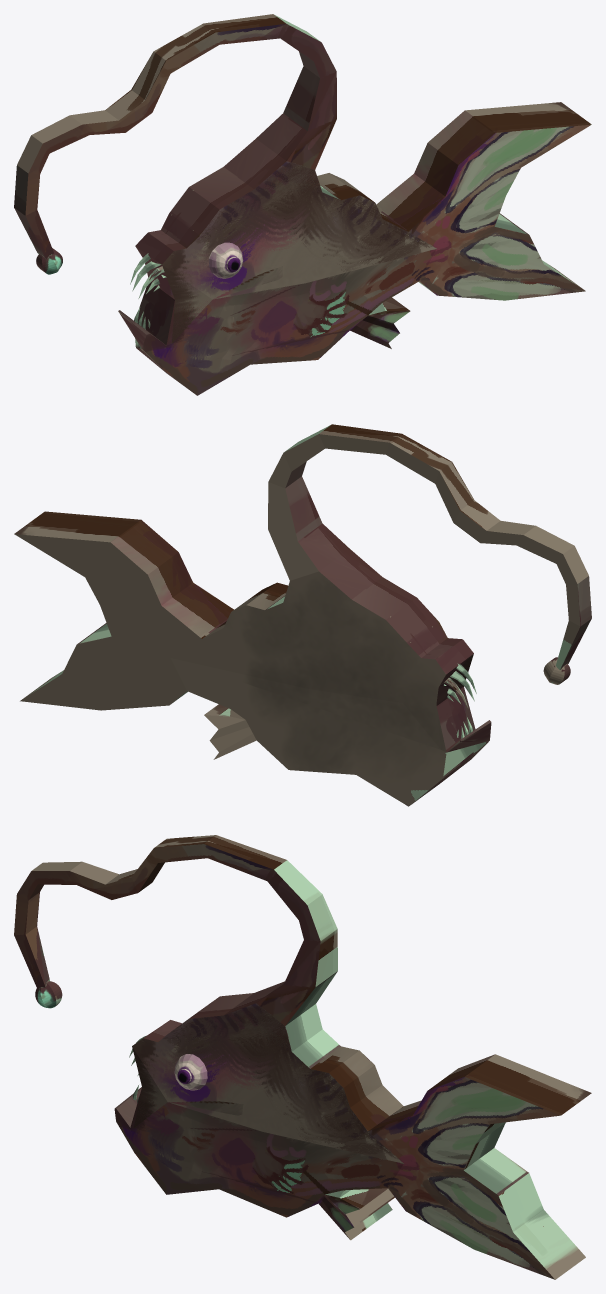
File: fish.glb
The picture shows the model from 3 angles, top to bottom: view 1: azimuth 30°, elevation 25°; view 2: azimuth 150°, elevation 25°; view 3: azimuth 330°, elevation 25°; orthographic projection.
Parts seen in each view (by area): view 1: Cube; view 2: Cube; view 3: Cube.
Boxes of the visible parts, left/top/right/bottom form: Cube: left=14, top=14, right=591, bottom=395; Cube: left=14, top=424, right=591, bottom=806; Cube: left=14, top=835, right=591, bottom=1279.
Bounding box in the file's own units: 5.59 × 3.36 × 0.8254.
4 materials, 4 textured.
